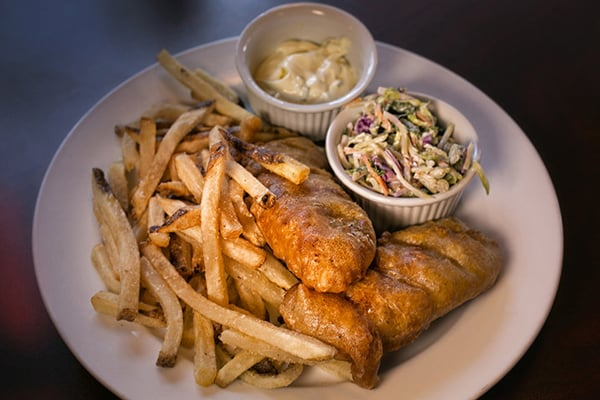sushi: (325, 86, 481, 231), (234, 2, 378, 145)
